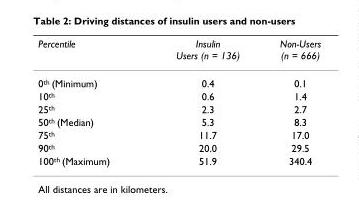table: (37, 37, 320, 166)
table column: (142, 37, 259, 166), (37, 37, 142, 166), (259, 37, 320, 166)
table column header: (37, 37, 320, 68)
table row: (37, 37, 320, 68), (37, 68, 320, 89), (37, 89, 320, 102), (37, 102, 320, 115), (37, 115, 320, 128), (37, 140, 320, 153), (37, 153, 320, 166), (37, 128, 320, 140)
